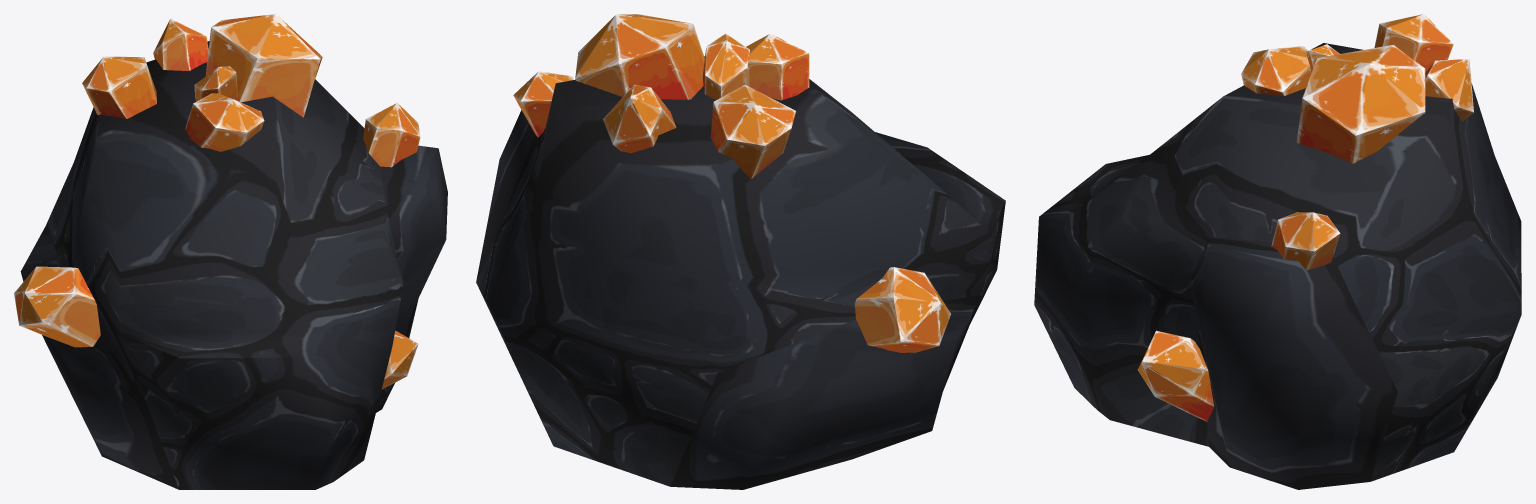
Rendered from SM_PROP_orevein_copper_dungeon.fbx.
3 views of the same model, side by side, from view 1: azimuth 30°, elevation 25°; view 2: azimuth 150°, elevation 25°; view 3: azimuth 270°, elevation 25° (orthographic). The views are drawn at different scales.
Visible parts, largest first — view 1: SM_PROP_orevein_copper_dungeon; view 2: SM_PROP_orevein_copper_dungeon; view 3: SM_PROP_orevein_copper_dungeon.
Part boxes in pixels (bbox=[...]): SM_PROP_orevein_copper_dungeon: bbox=[14, 14, 447, 489]; SM_PROP_orevein_copper_dungeon: bbox=[476, 14, 1005, 489]; SM_PROP_orevein_copper_dungeon: bbox=[1034, 14, 1521, 489].
Bounding box in the file's own units: 68.61 × 58.88 × 66.35.
